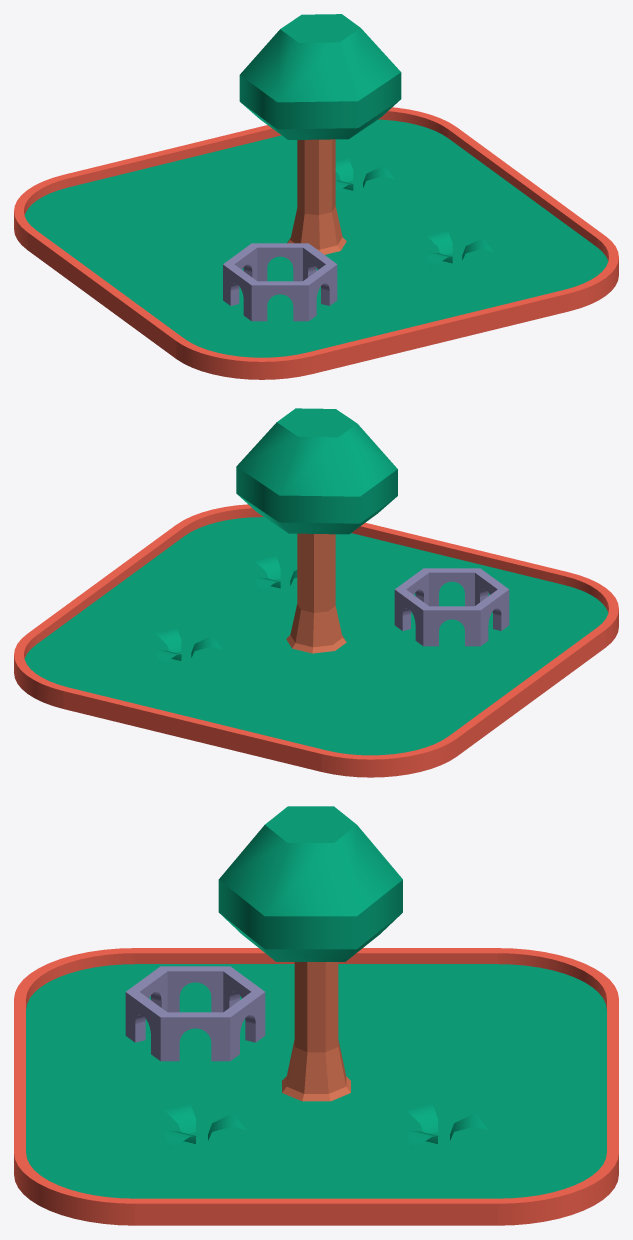
3 renders of one model, top to bottom at view 1: azimuth 30°, elevation 25°; view 2: azimuth 150°, elevation 25°; view 3: azimuth 270°, elevation 25°, orthographic. The views are drawn at different scales.
Visible parts, largest first — view 1: mergedBlocks; view 2: mergedBlocks; view 3: mergedBlocks.
Boxes of the visible parts, <box> form: mergedBlocks: <box>14,14,618,379</box>; mergedBlocks: <box>14,408,618,777</box>; mergedBlocks: <box>14,806,618,1225</box>.
Bounding box in the file's own units: 5 × 2.5 × 5.
